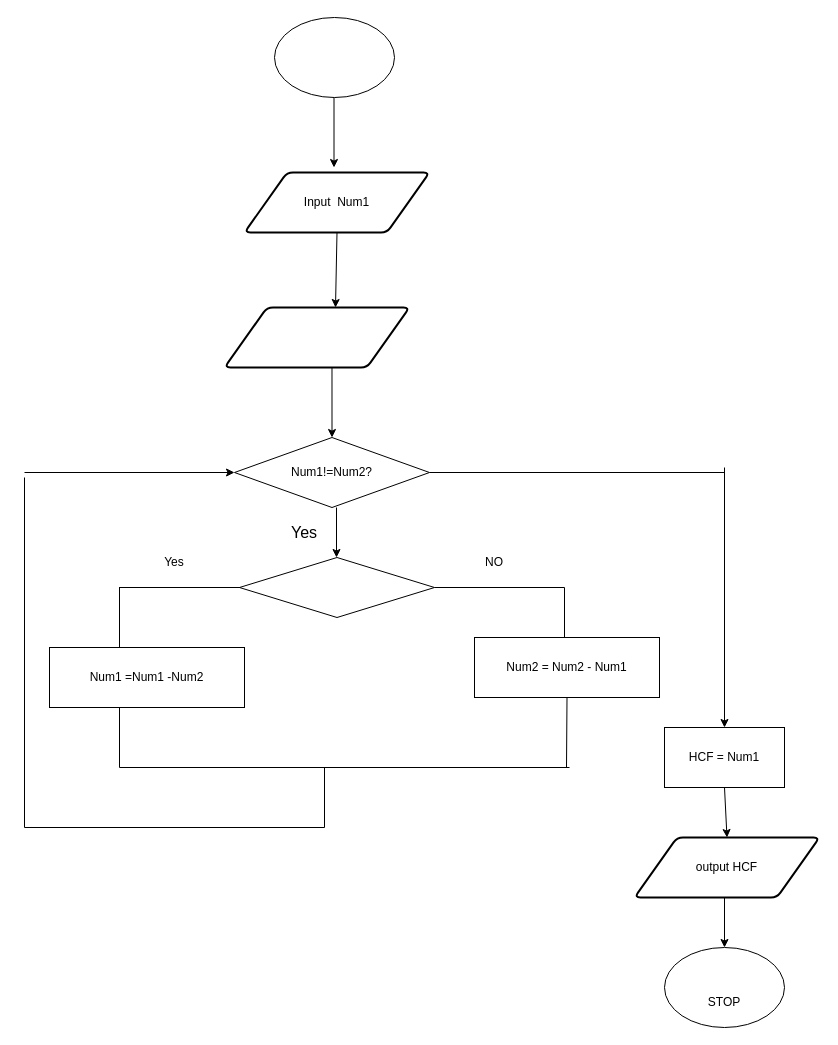
Image size: 838x1045. Some labels were removed from this diagram. The shapes that lost their labels are listed below. From the top down, each one's centre as x and y in pixels, then its label:
At (334,57): "Start".
At (316,337): "INPUT Num 2".
At (336,587): "Num1>Num2".
